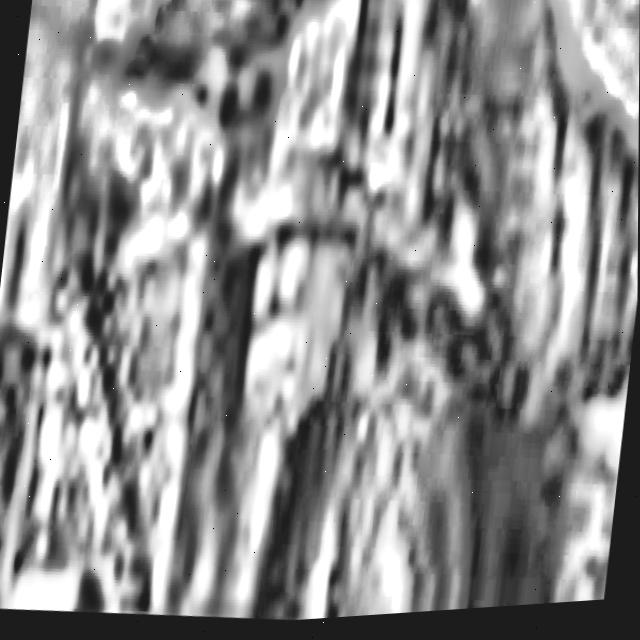dump_truck: (1, 0, 640, 640)
